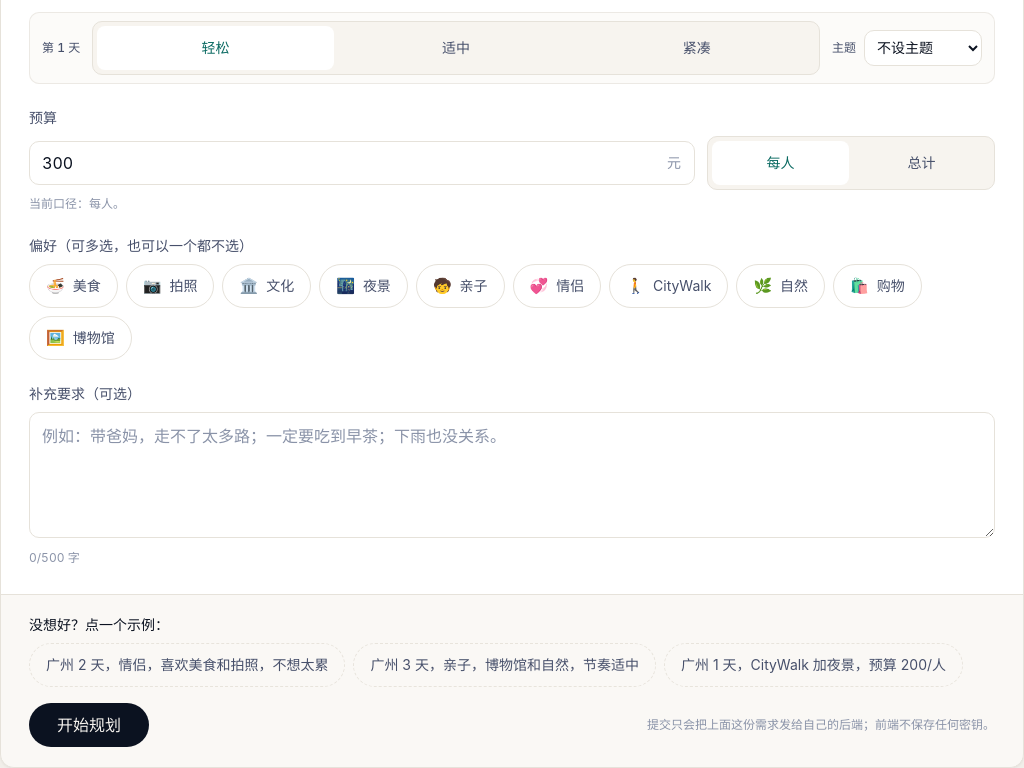
Scenario: PlannerForm 示例一键填入 › 点击示例后填好天数、偏好、节奏（并说明填了什么）
(page scrolled)
Click the button "广州 2 天，情侣，喜欢美食和拍照，不想太累". click: (187, 665)
box: [29,643,345,687]
(page scrolled)
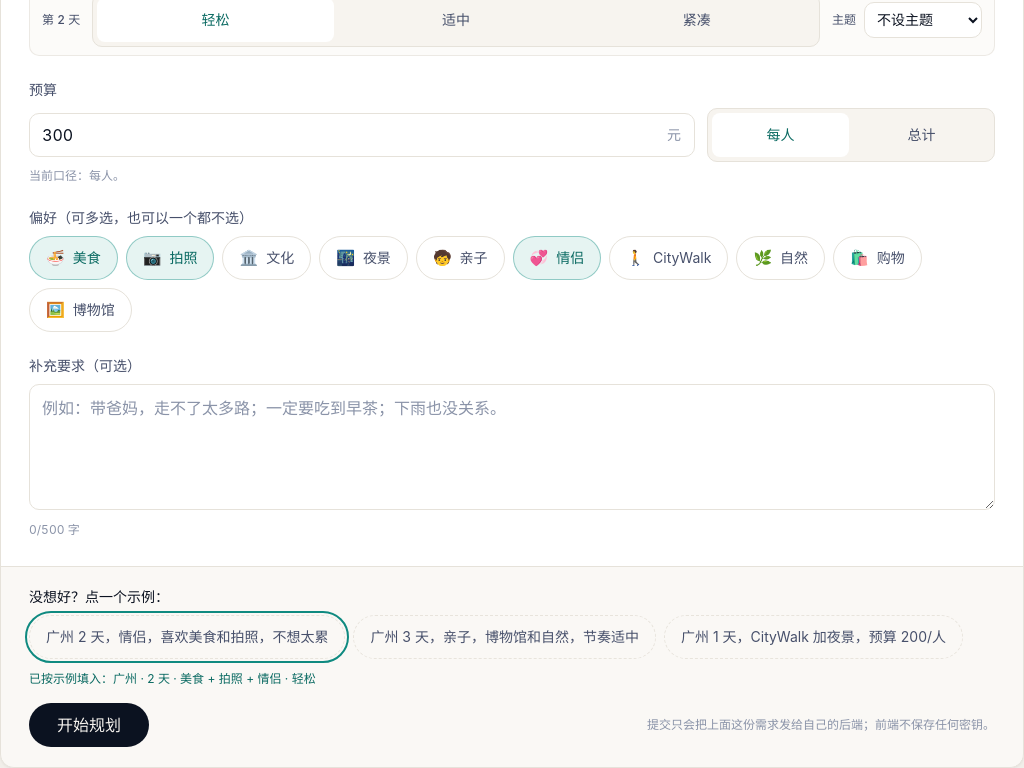
Now the checkbox labelled "🍜 美食" is checked, box [29,236,118,280]
Now the checkbox labelled "📷 拍照" is checked, box [126,236,214,280]
Now the checkbox labelled "💞 情侣" is checked, box [513,236,601,280]
